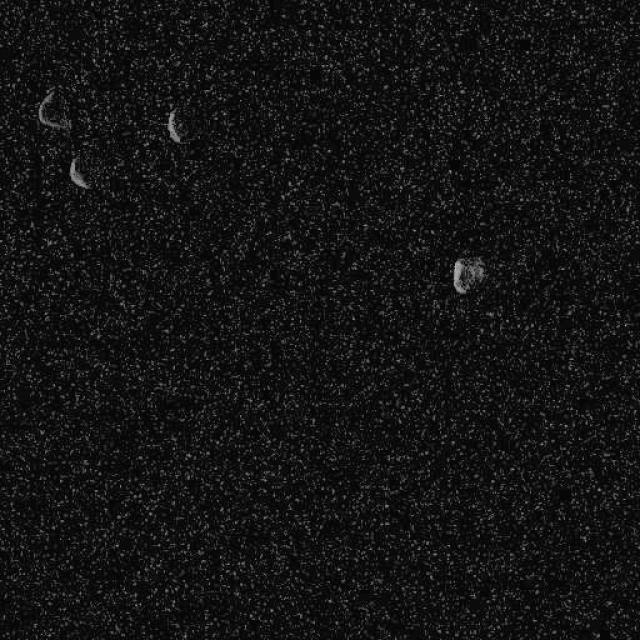D2: (36, 88, 72, 130), (451, 256, 485, 295), (165, 108, 186, 144), (68, 156, 90, 189)
